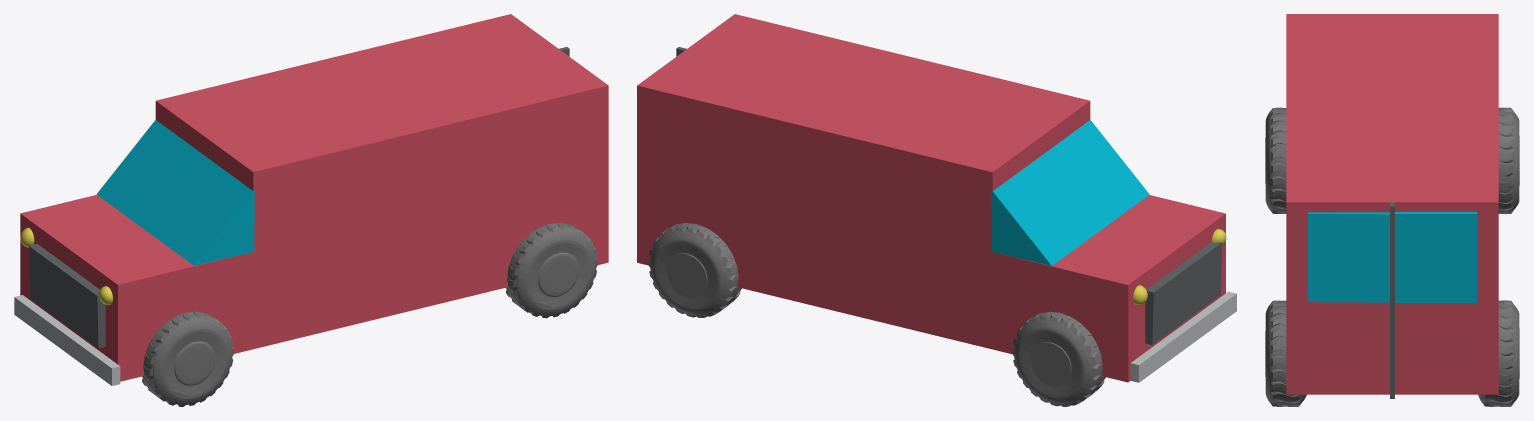
Rendered from Van.glb.
3 views of the same model, side by side, from view 1: azimuth 30°, elevation 25°; view 2: azimuth 150°, elevation 25°; view 3: azimuth 270°, elevation 25° (orthographic). The views are drawn at different scales.
Parts seen in each view (by area): view 1: Mesh_Mesh_head_geo.001_lambert2SG.001; view 2: Mesh_Mesh_head_geo.001_lambert2SG.001; view 3: Mesh_Mesh_head_geo.001_lambert2SG.001.
Part boxes in pixels (bbox=[...]): Mesh_Mesh_head_geo.001_lambert2SG.001: bbox=[14, 14, 608, 406]; Mesh_Mesh_head_geo.001_lambert2SG.001: bbox=[637, 14, 1236, 406]; Mesh_Mesh_head_geo.001_lambert2SG.001: bbox=[1265, 14, 1519, 406].
Bounding box in the file's own units: 30 × 12 × 12.
